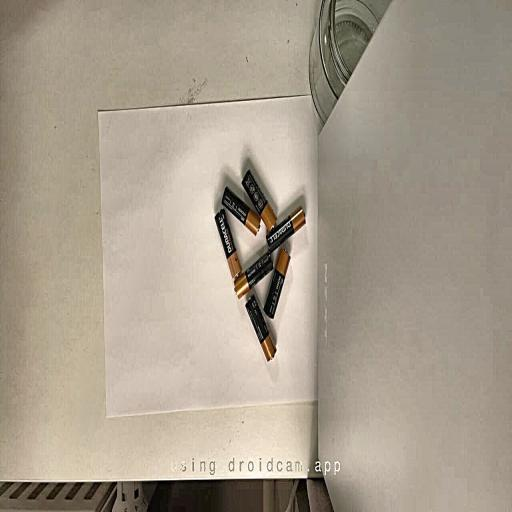DuracellAA: (242, 169, 276, 231), (246, 296, 276, 361), (222, 187, 260, 235), (266, 206, 305, 252), (264, 250, 290, 319), (234, 252, 273, 298), (215, 209, 241, 278)
